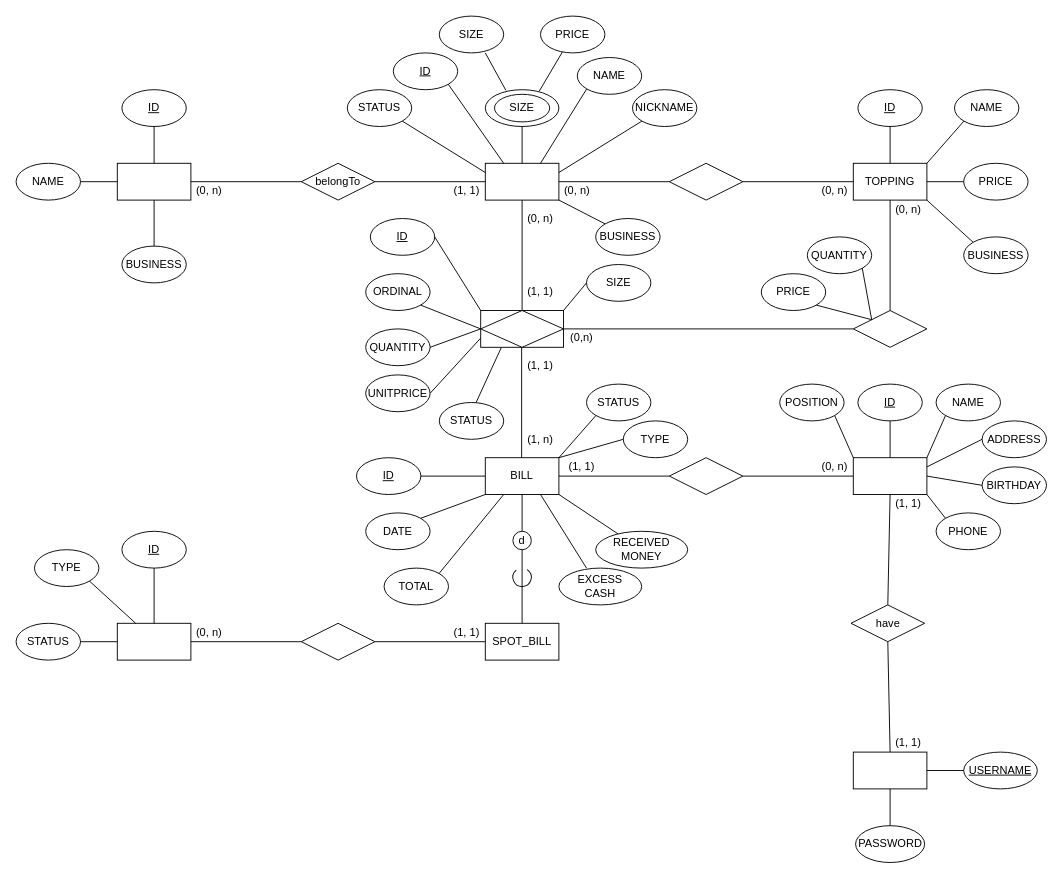
This 1063x879 diagram has some shape labels left out. The centre of each missing label's shape, as x and y in pixels:
"ACCOUNT" goes at (889,770).
"CLASSIFY" goes at (153,181).
"combines" goes at (705,181).
"contains" goes at (889,328).
"DETAIL_BILL" goes at (522,328).
"includes" goes at (337,641).
"PRODUCT" goes at (521,181).
"sepUp" goes at (705,475).
"STAFF" goes at (889,475).
"TABLE" goes at (153,641).
